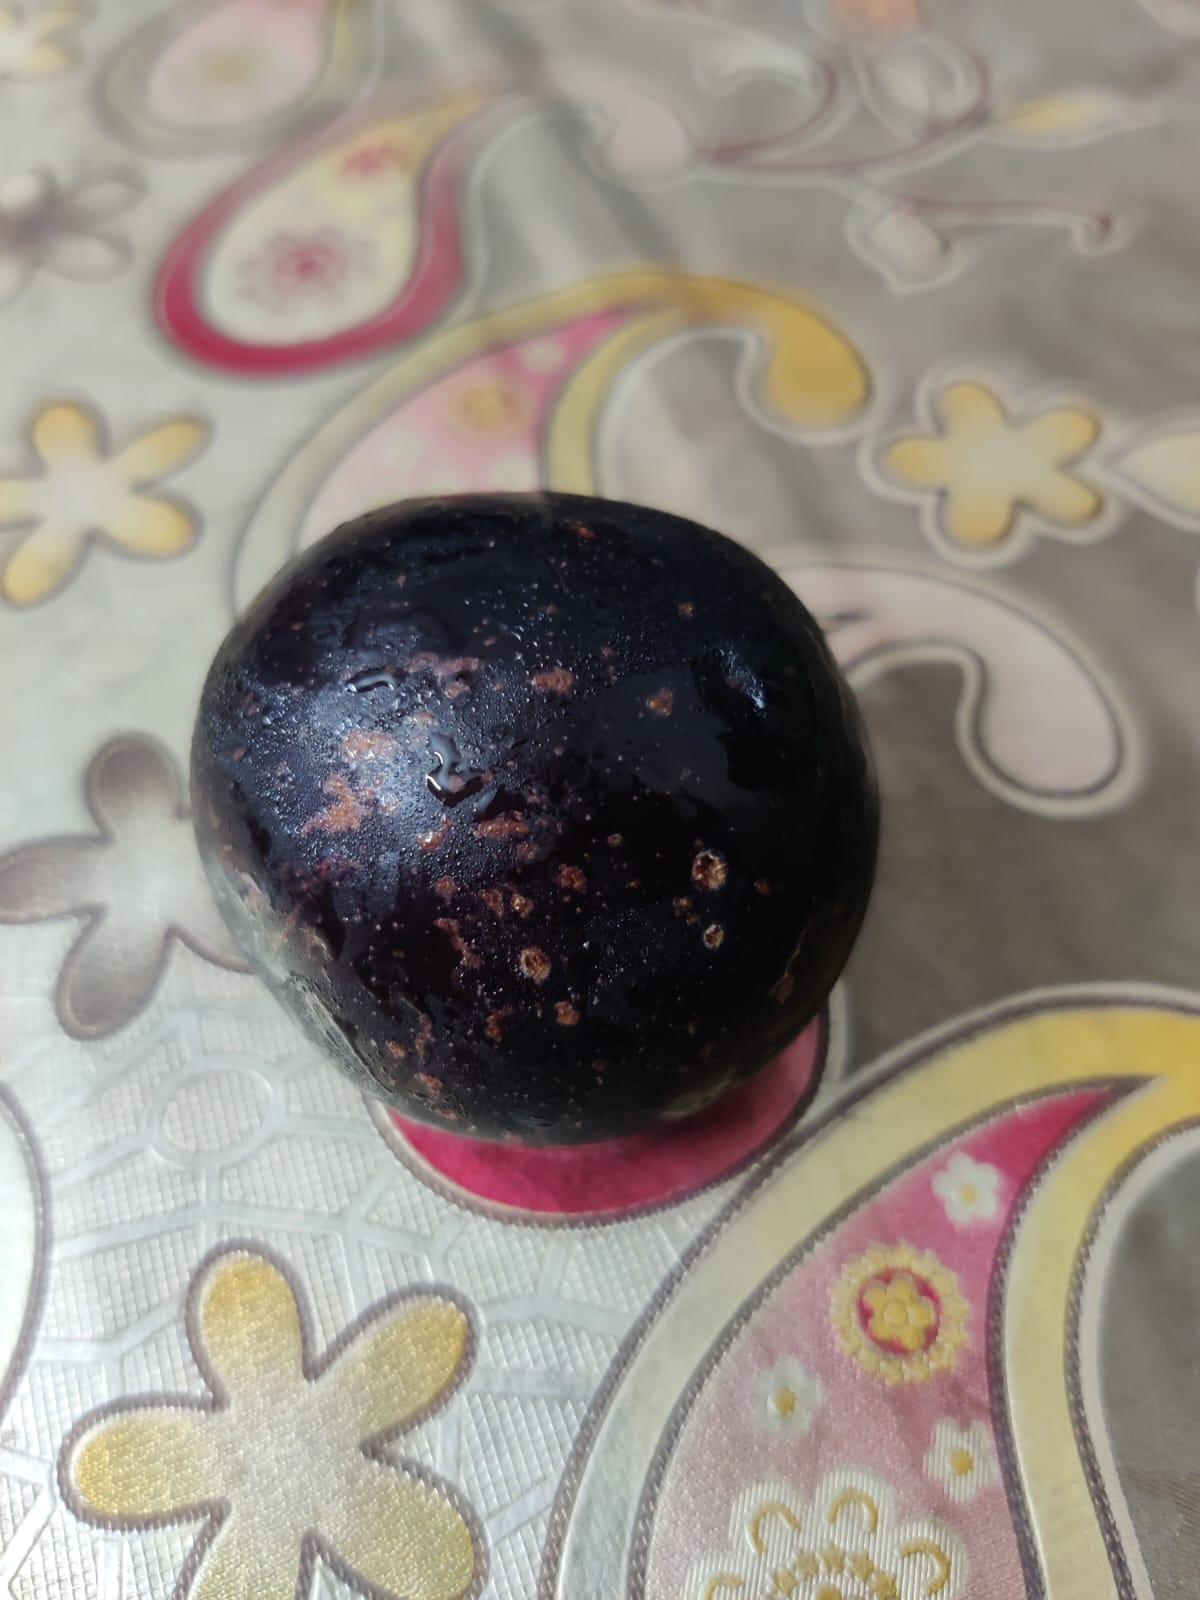non-mango: (180, 476, 890, 1148)
